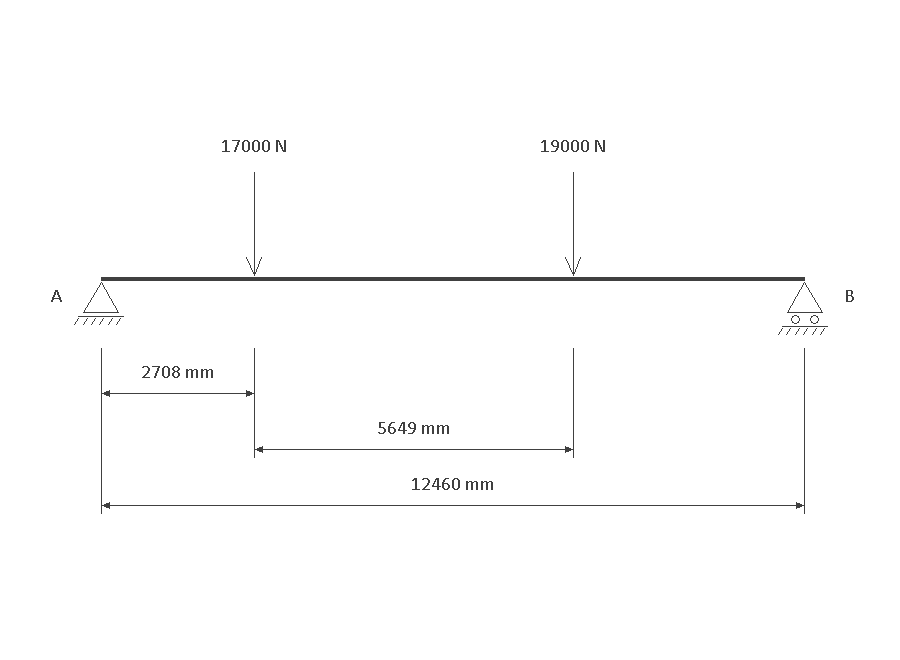pin_support: (74, 282, 124, 325)
point_load: (246, 172, 262, 276), (565, 172, 581, 276)
roller_support: (778, 282, 828, 335)
